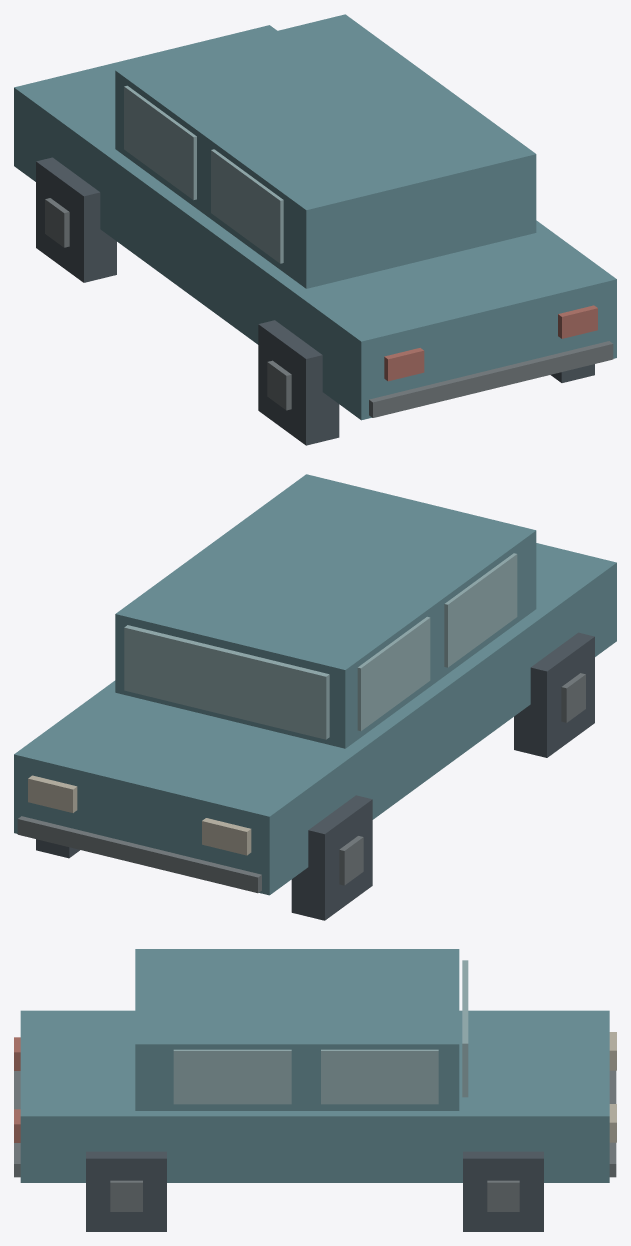
The model's file is sedan.glb.
3 views of the same model, one above another, from view 1: azimuth 30°, elevation 25°; view 2: azimuth 150°, elevation 25°; view 3: azimuth 270°, elevation 25° (orthographic). The views are drawn at different scales.
Parts seen in each view (by area): view 1: body, wheel_-0.85_1.28, wheel_-0.85_-1.28; view 2: body, wheel_-0.85_-1.28, wheel_-0.85_1.28; view 3: body, wheel_0.85_-1.28, wheel_0.85_1.28.
Part boxes in pixels (x1,y1,x2,y2): body: (14, 14, 616, 420); wheel_-0.85_1.28: (258, 320, 339, 445); wheel_-0.85_-1.28: (36, 157, 116, 282); body: (14, 474, 616, 895); wheel_-0.85_-1.28: (291, 795, 372, 920); wheel_-0.85_1.28: (514, 632, 594, 757); body: (14, 949, 616, 1182); wheel_0.85_-1.28: (463, 1151, 543, 1231); wheel_0.85_1.28: (86, 1151, 166, 1231).
Size of the model in its own units: 1.99 by 1.31 by 4.1.
